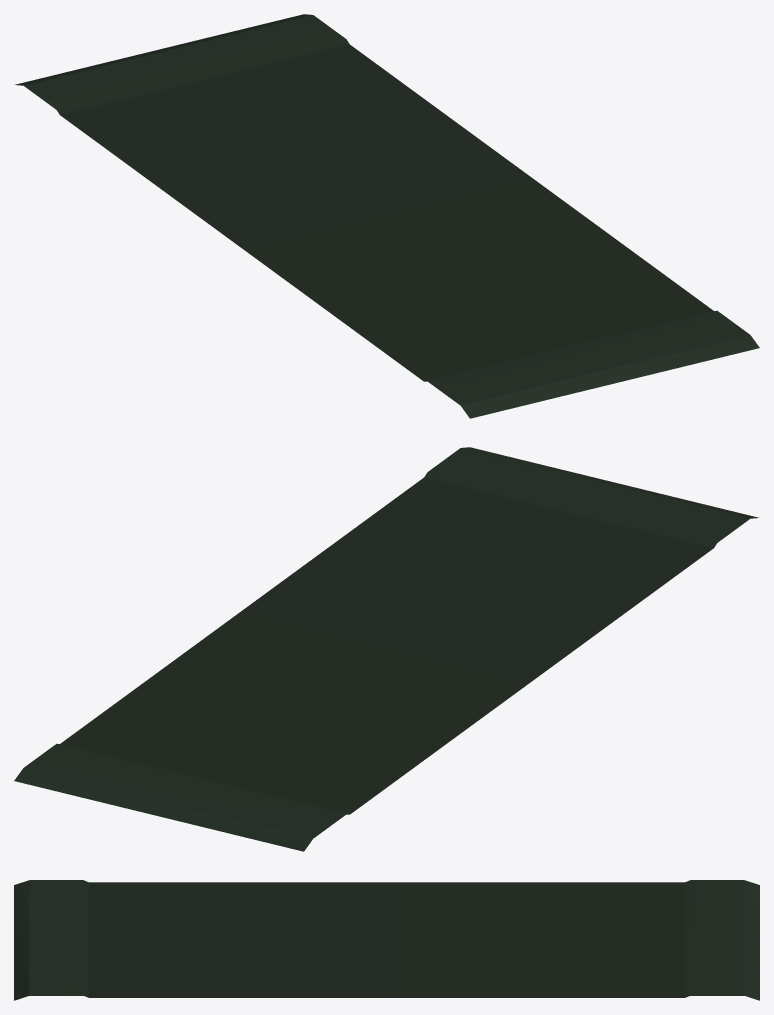
Rendered from SF_Env_Path_Straight_08.glb.
3 renders of one model, top to bottom at view 1: azimuth 30°, elevation 25°; view 2: azimuth 150°, elevation 25°; view 3: azimuth 270°, elevation 25°, orthographic. The views are drawn at different scales.
Parts seen in each view (by area): view 1: SF_Env_Path_Straight_08; view 2: SF_Env_Path_Straight_08; view 3: SF_Env_Path_Straight_08.
Boxes of the visible parts, x1,y1,x2,y2 form: SF_Env_Path_Straight_08: [14, 14, 759, 418]; SF_Env_Path_Straight_08: [14, 447, 759, 851]; SF_Env_Path_Straight_08: [14, 880, 759, 1000].
Size of the model in its own units: 0.0199 by 0.000403 by 0.0542.
Materials: 1 (1 with a texture image).
